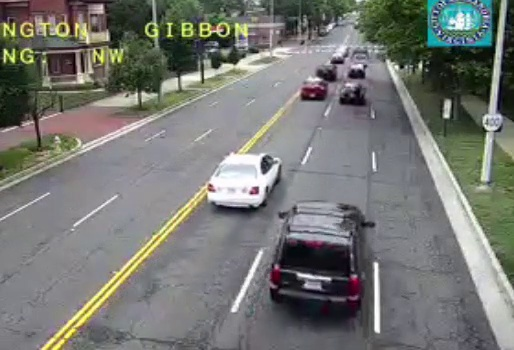car: (272, 201, 363, 312), (207, 153, 282, 206), (300, 78, 326, 99), (340, 83, 364, 104), (317, 64, 337, 80)
